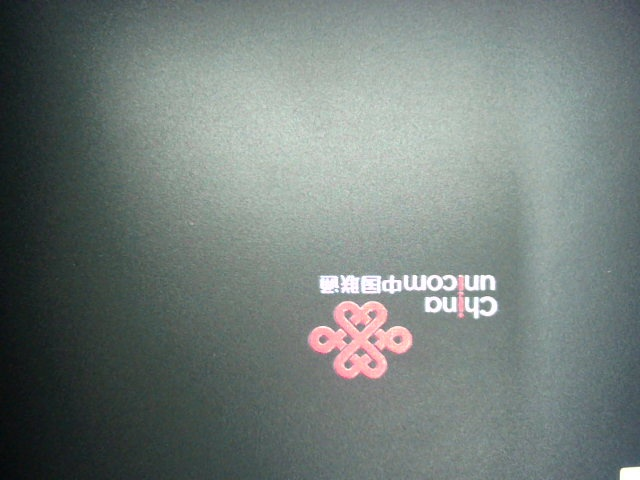AC_ChinaUnicom: (294, 264, 509, 387)
